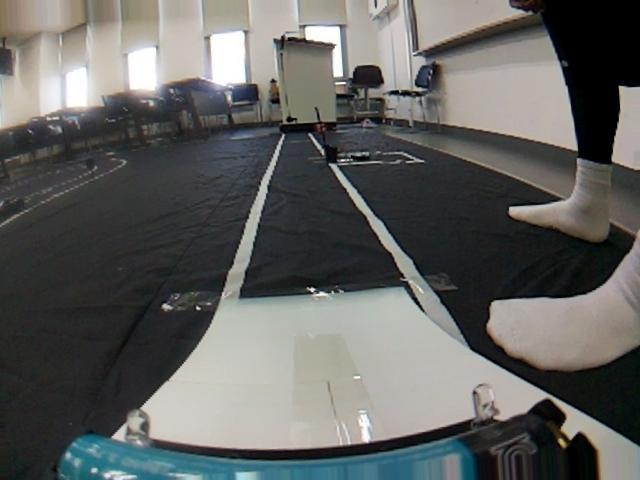hill_down: (93, 254, 484, 480)
